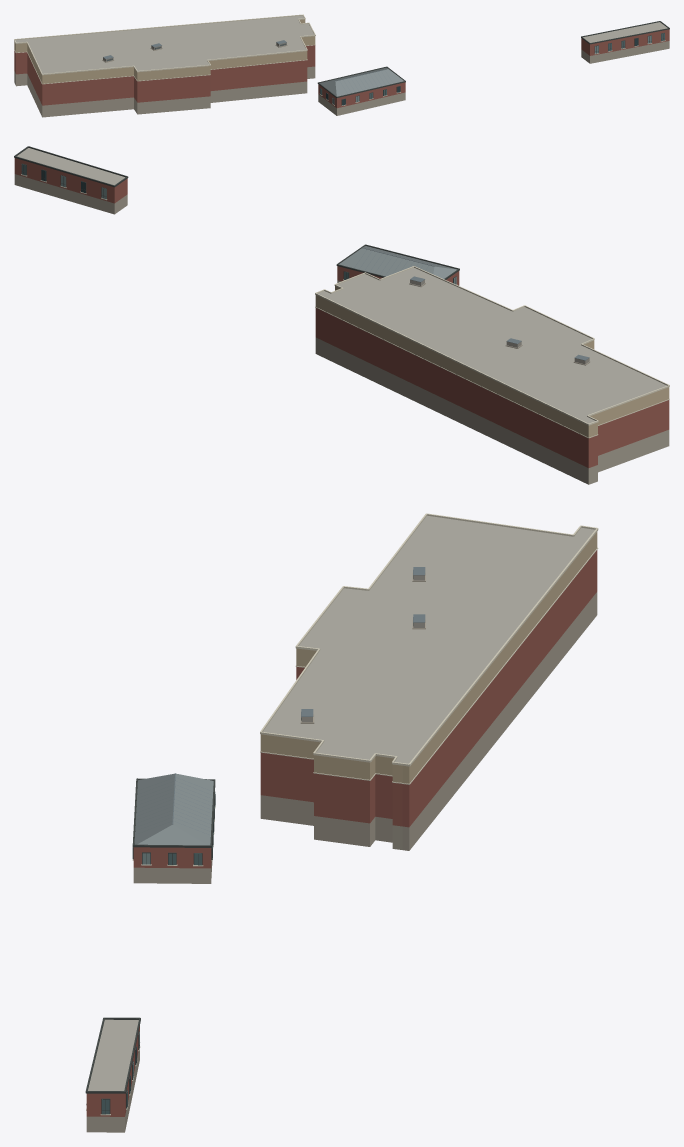
The model's file is lafayette-athletics-3_3.glb.
3 views of the same model, one above another, from view 1: azimuth 30°, elevation 25°; view 2: azimuth 150°, elevation 25°; view 3: azimuth 270°, elevation 25° (orthographic). The views are drawn at different scales.
Visible parts, largest first — view 1: 634377436 | Roof, 634377436 | Shell and foundation, 634377436 | Facades, 634377438 | Roof, 634377438 | Facades; view 2: 634377436 | Roof, 634377436 | Shell and foundation, 634377436 | Facades, 634377438 | Roof, 634377438 | Facades; view 3: 634377436 | Roof, 634377436 | Shell and foundation, 634377438 | Roof, 634377436 | Facades, 634377438 | Facades.
Boxes of the visible parts, x1,y1,x2,y2 form: 634377436 | Roof: [14, 15, 669, 117]; 634377436 | Shell and foundation: [14, 19, 669, 108]; 634377436 | Facades: [14, 14, 665, 105]; 634377438 | Roof: [319, 67, 403, 96]; 634377438 | Facades: [317, 21, 669, 105]; 634377436 | Roof: [14, 148, 669, 484]; 634377436 | Shell and foundation: [14, 158, 669, 468]; 634377436 | Facades: [21, 174, 669, 438]; 634377438 | Roof: [339, 246, 457, 278]; 634377438 | Facades: [14, 146, 459, 284]; 634377436 | Roof: [86, 515, 597, 1132]; 634377436 | Shell and foundation: [86, 532, 597, 1116]; 634377438 | Roof: [134, 773, 213, 845]; 634377436 | Facades: [86, 513, 598, 1115]; 634377438 | Facades: [85, 778, 215, 1114].
Size of the model in its own units: 135 by 11.22 by 55.02.
